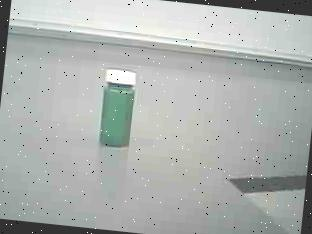Bottle C: (87, 60, 151, 156)
